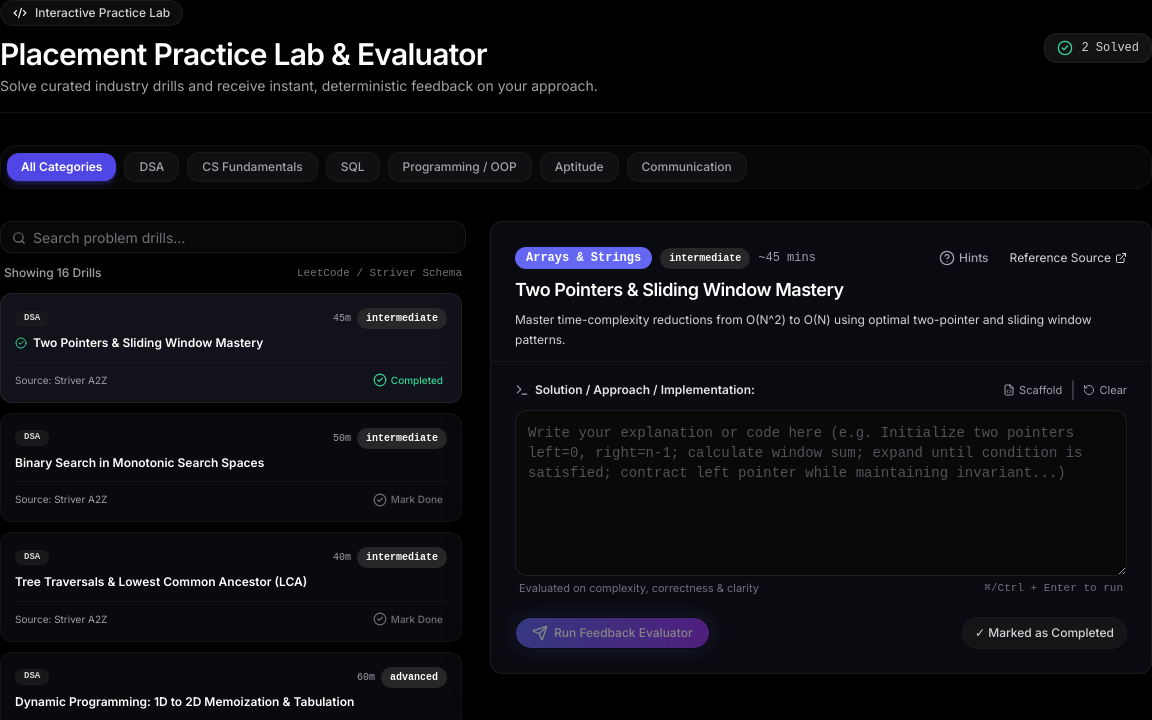
PracticeView - Drills & AI Feedback Evaluator › enables evaluate button upon typing and renders evaluation results on submission
The image size is (1152, 720).
Replace the text in the text box with placeholder "Write your explanation or code here" with "Two pointer approach: initialize left=0, right=n-1, compute window sum." at (821, 493), box x1=515 y1=410 x2=1127 y2=576
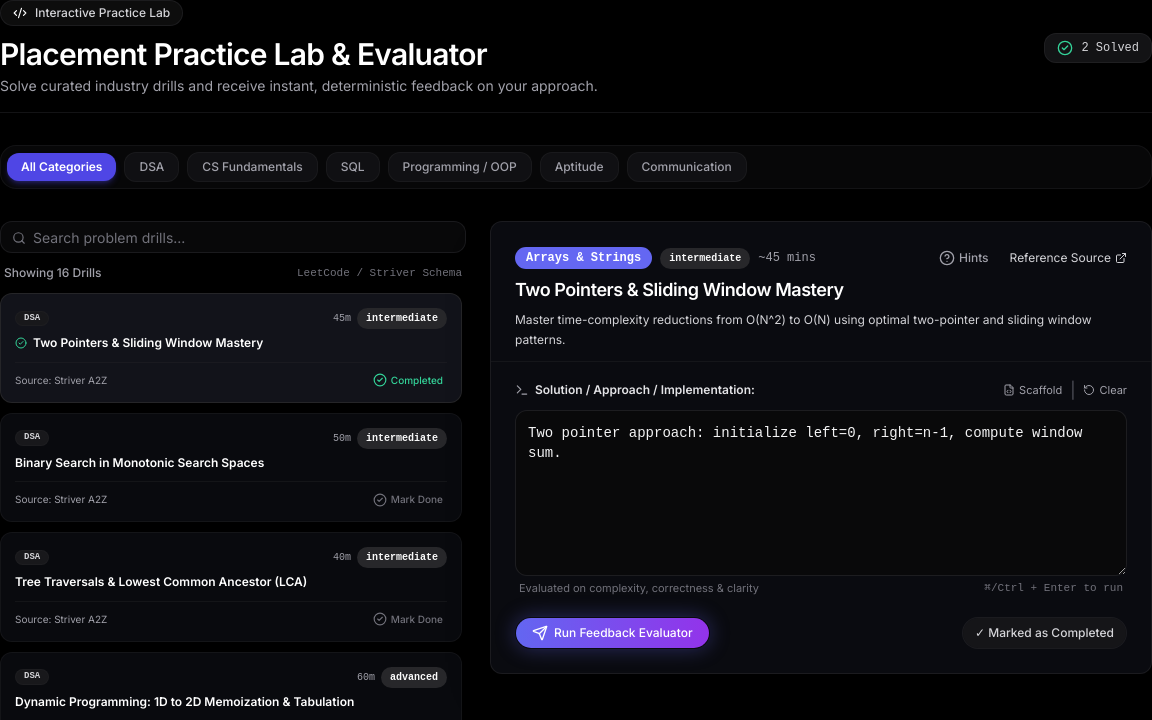
Result: the button "Run Feedback Evaluator" is enabled
Click the button "Run Feedback Evaluator" at (612, 632), box x1=515 y1=616 x2=710 y2=648
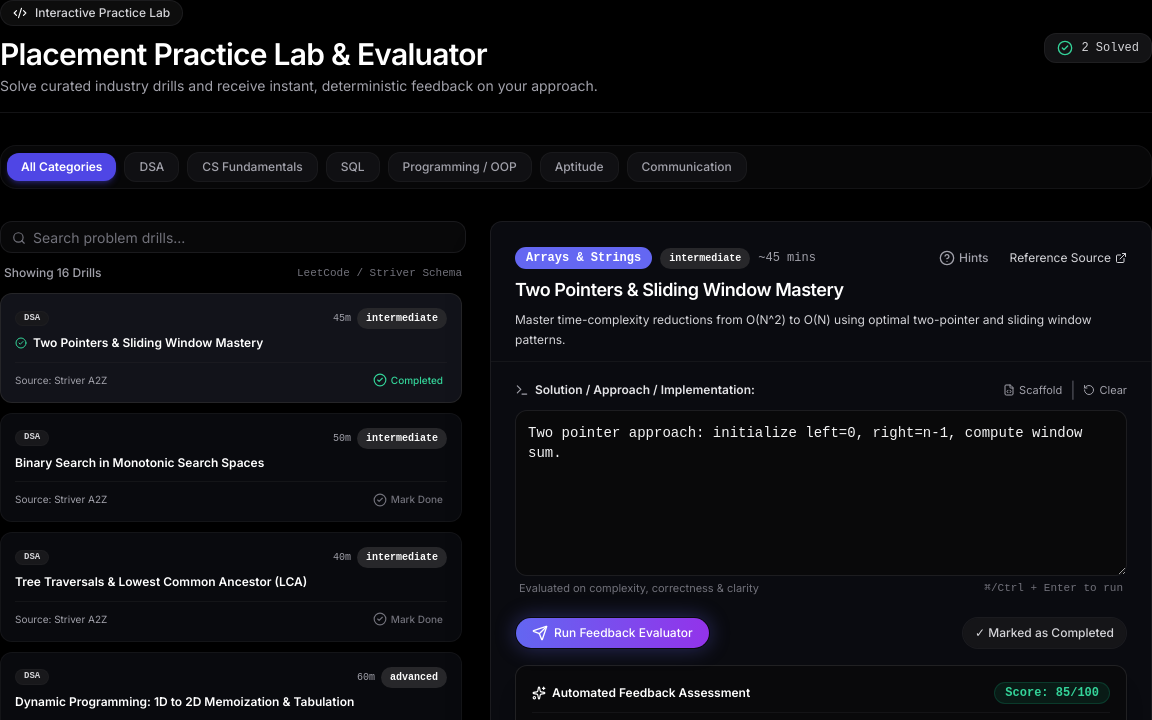
Result: the text "Score: 85/100" is shown at x1=994 y1=682 x2=1110 y2=704
